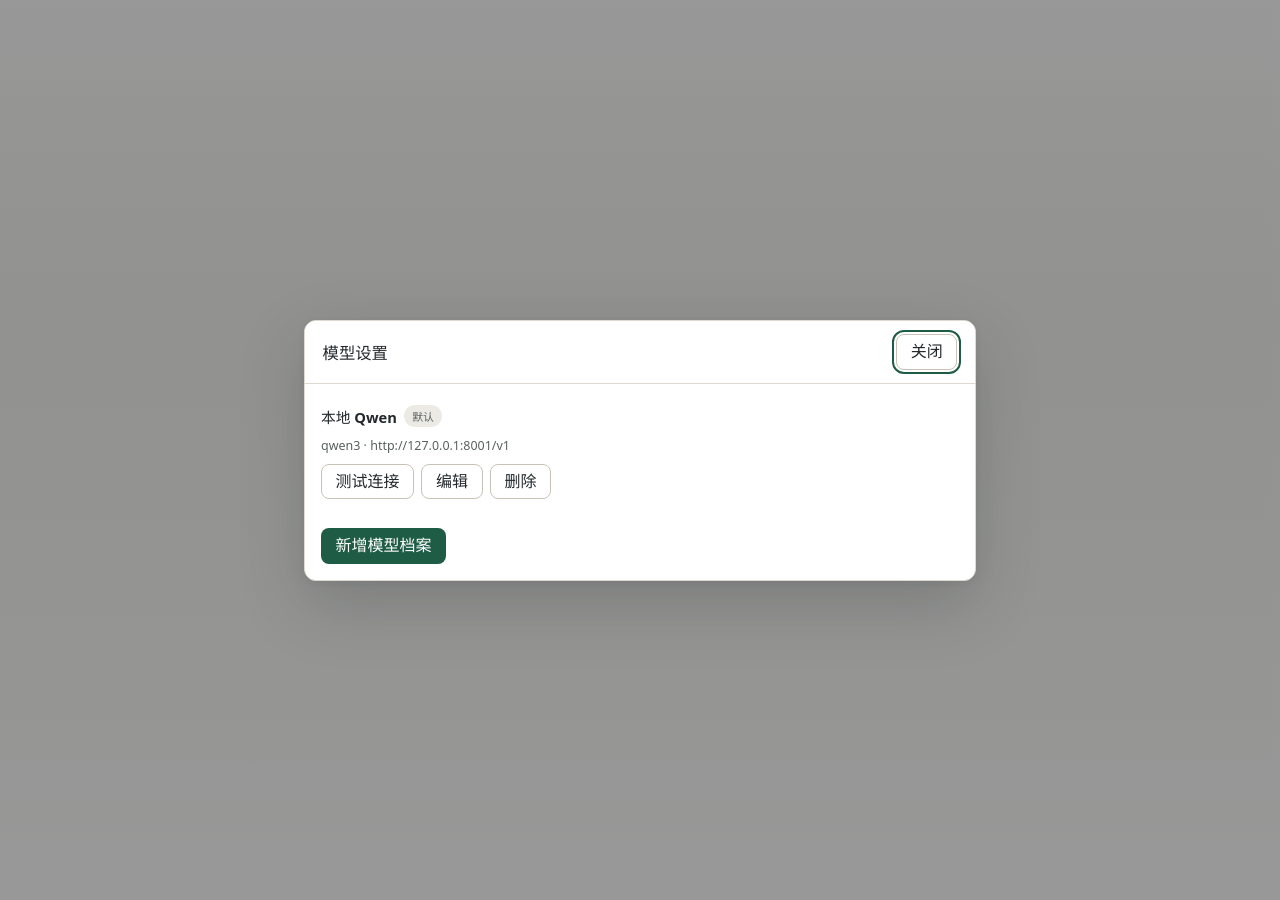
Test: refreshes the profile list after a revision conflict
Click the button "编辑". click: point(452, 481)
box: [421,464,483,499]
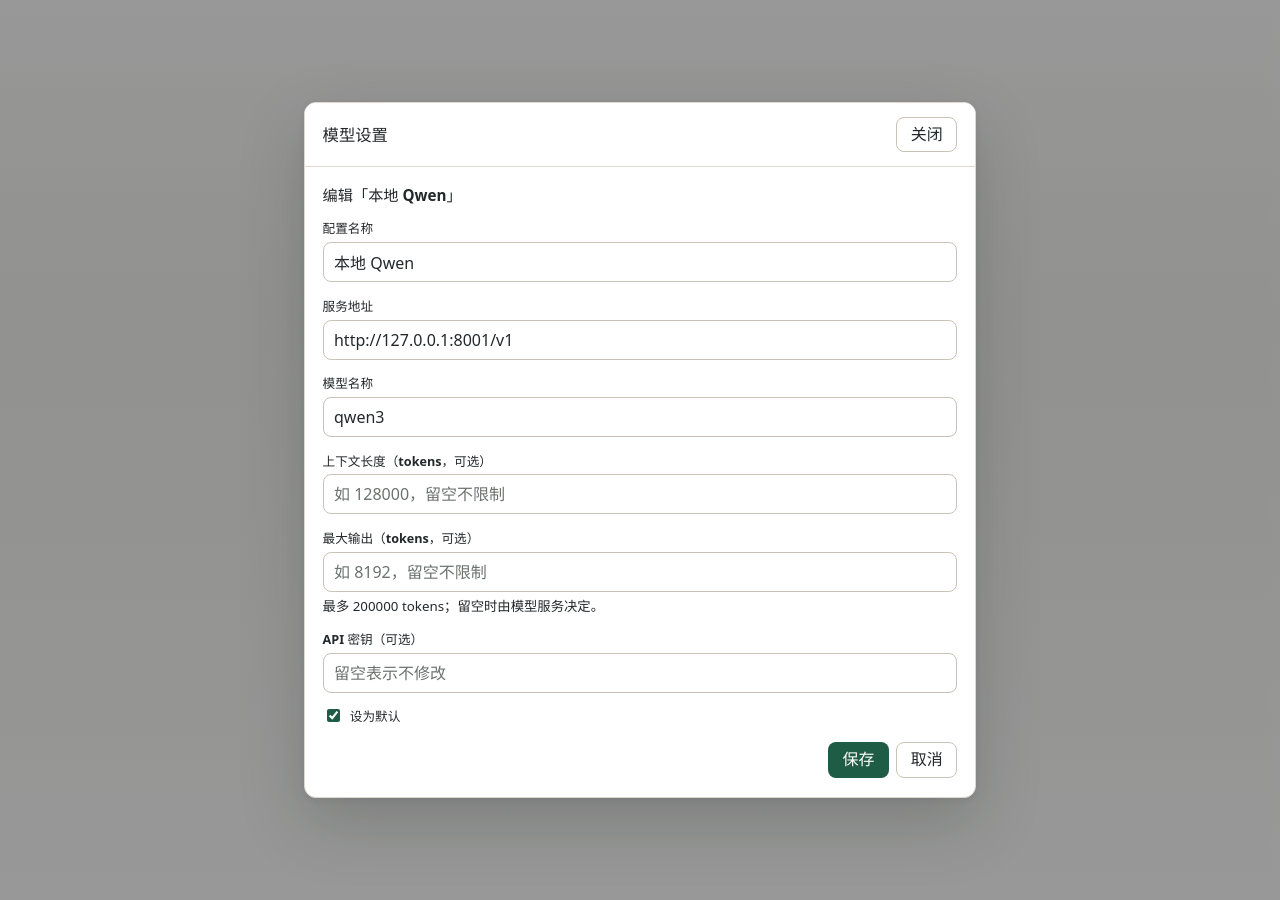
Click the button "保存". click: point(858, 760)
box: [828,742,889,778]
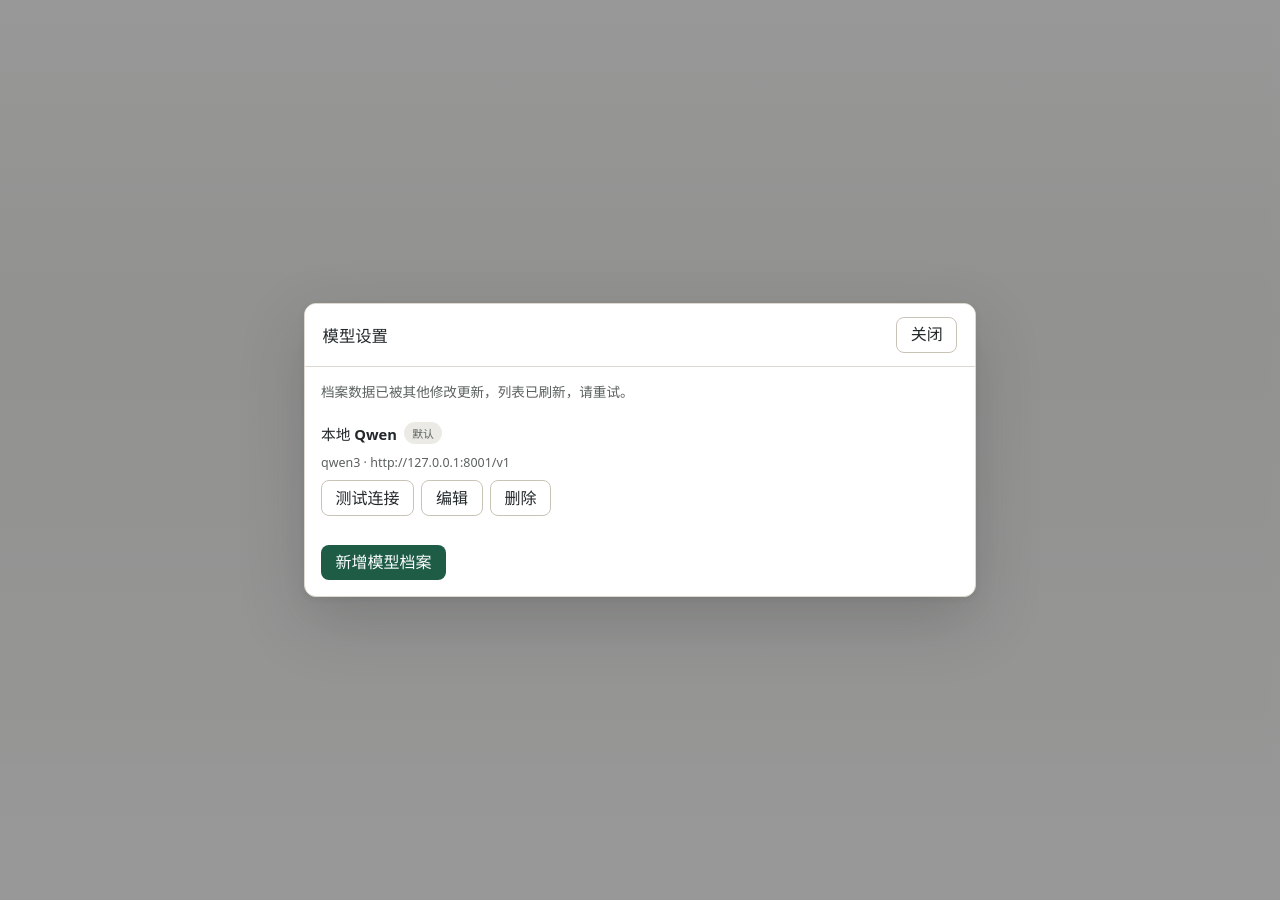
Expected: the message shows "已刷新", [321,382,634,401]
